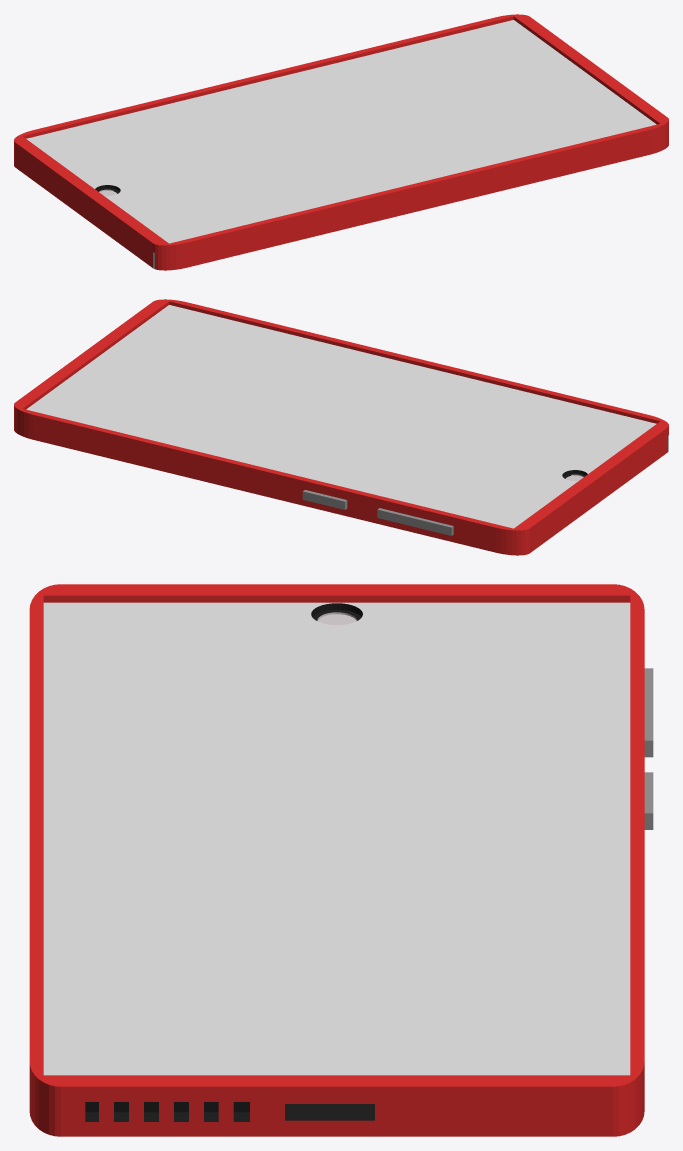
File: Mobile_Phone.fbx
3 views of the same model, one above another, from view 1: azimuth 30°, elevation 25°; view 2: azimuth 150°, elevation 25°; view 3: azimuth 270°, elevation 25° (orthographic). The views are drawn at different scales.
Visible parts, largest first — view 1: Cube; view 2: Cube; view 3: Cube.
Part boxes in pixels (box(x1,y1,x2,y2)): Cube: box(14, 14, 668, 270); Cube: box(14, 299, 668, 555); Cube: box(29, 584, 653, 1136).
Bounding box in the file's own units: 127 × 6.15 × 66.46.
